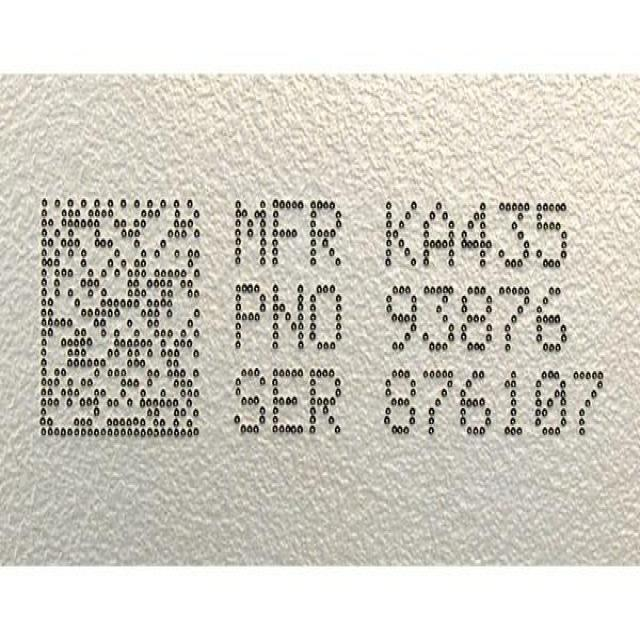datamatrix: (34, 190, 205, 442)
